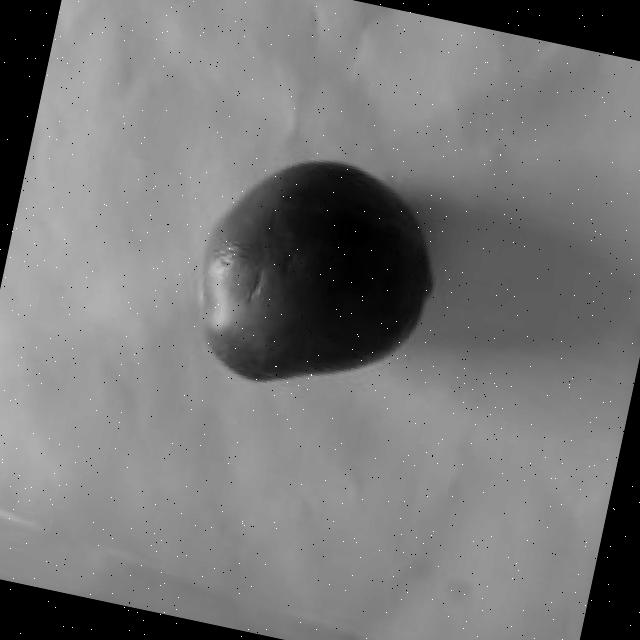Ripe: (182, 139, 456, 414)
